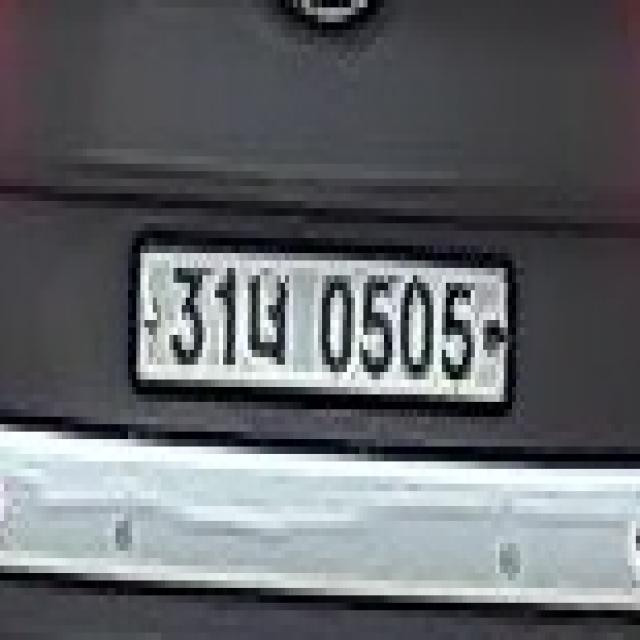0: (396, 268, 434, 379), (314, 275, 355, 372)
1: (210, 253, 243, 372)
3: (169, 261, 211, 372)
5: (438, 275, 475, 387), (359, 268, 392, 379)
license_plate: (136, 238, 508, 409)
neo: (244, 268, 293, 372)
